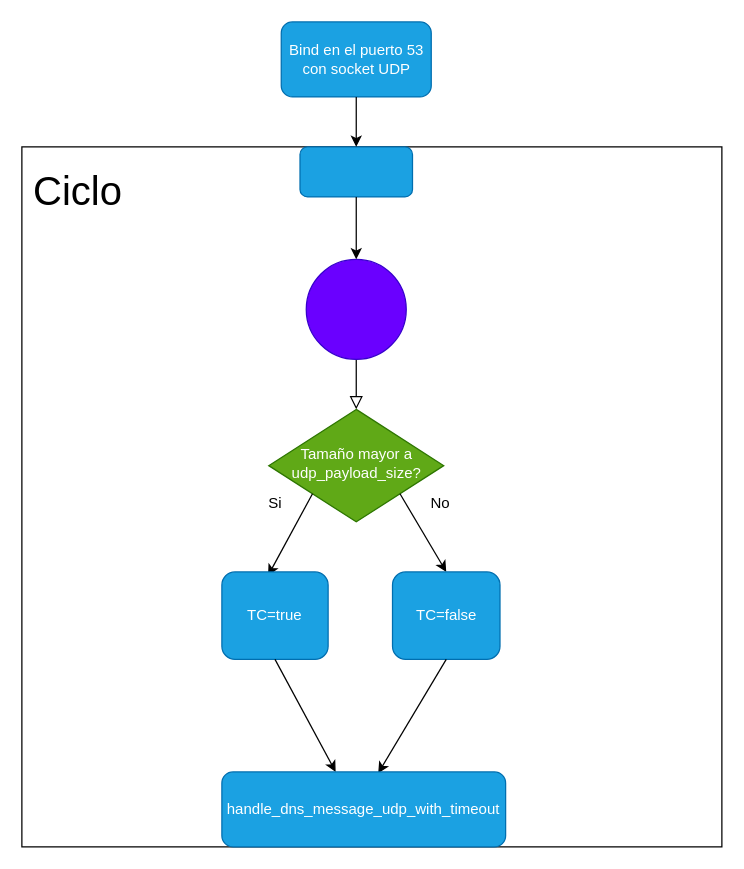
This 744x869 diagram has some shape labels left out. Each missing label, with the centre of its shape:
"Creacion de Threads" goes at (x=355, y=308).
"Se recibe una consulta DNS" goes at (x=355, y=171).
